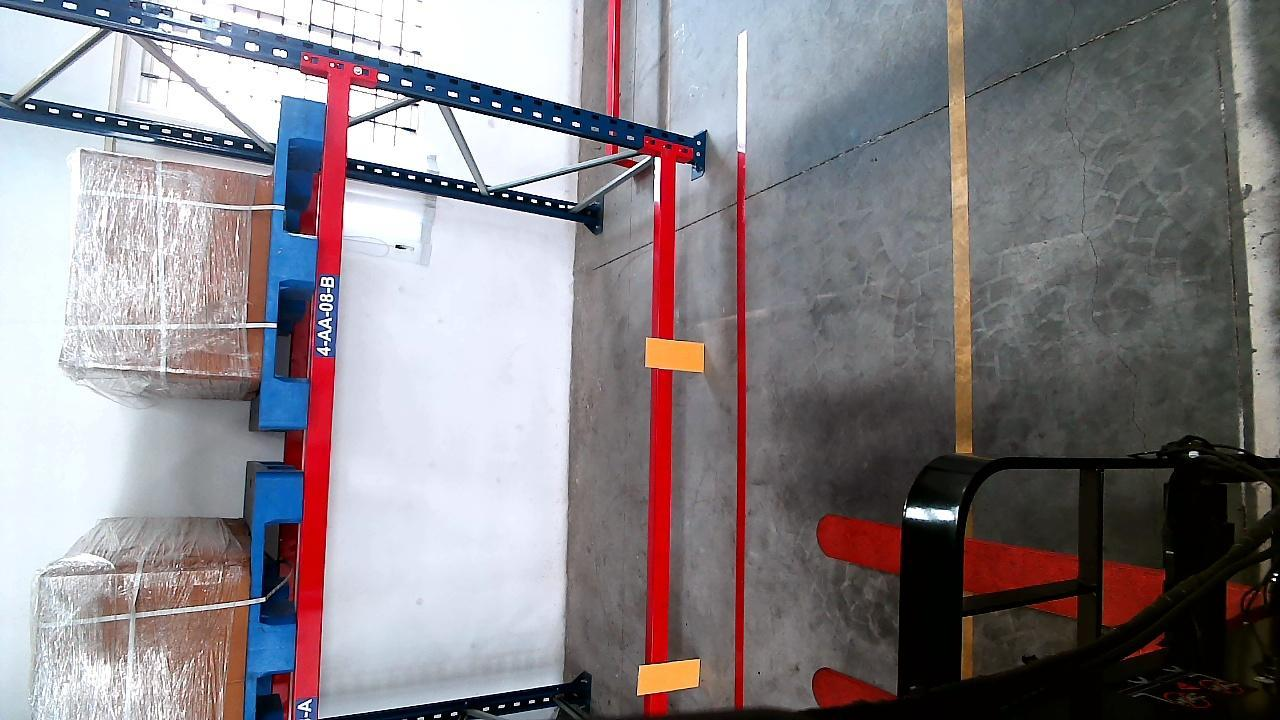red_line: (728, 146, 752, 706)
yellow_line: (949, 0, 977, 453)
